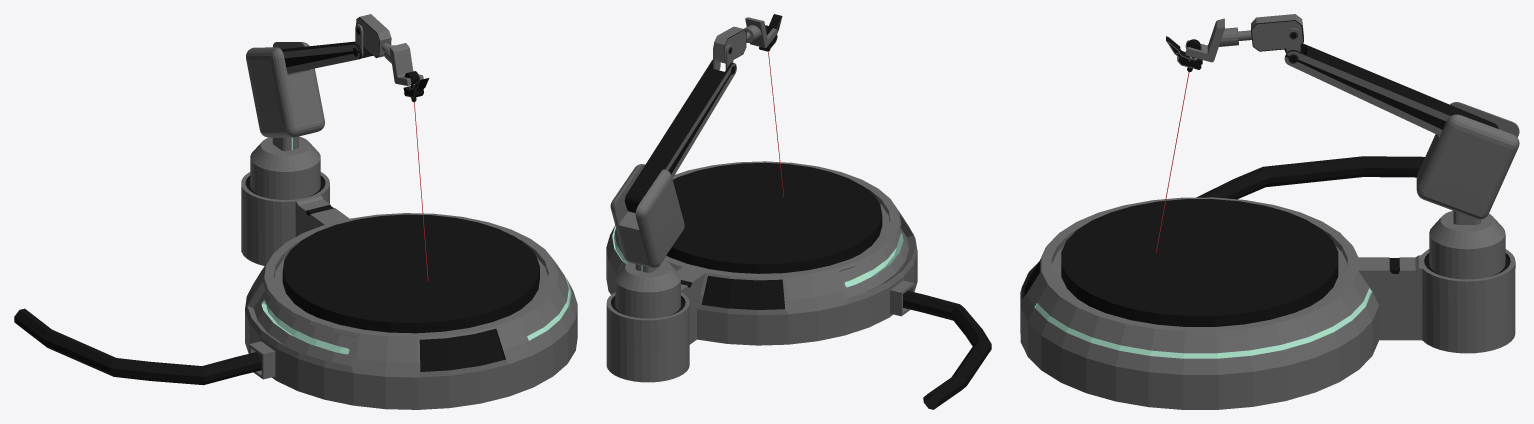
File: laser.fbx
The picture shows the model from 3 angles, left to right: view 1: azimuth 30°, elevation 25°; view 2: azimuth 150°, elevation 25°; view 3: azimuth 270°, elevation 25°; orthographic projection. The views are drawn at different scales.
Visible parts, largest first — view 1: base, link2, link3, link, link5, link7; view 2: base, link2, link3, link, link5, link7; view 3: base, link2, link3, link, link5, link7.
Boxes of the visible parts, x1=… form: base: x1=14, y1=136, x2=577, y2=409; link2: x1=246, y1=42, x2=324, y2=137; link3: x1=281, y1=41, x2=372, y2=73; link: x1=356, y1=14, x2=394, y2=63; link5: x1=389, y1=43, x2=423, y2=85; link7: x1=403, y1=78, x2=429, y2=281; base: x1=606, y1=161, x2=991, y2=409; link2: x1=610, y1=164, x2=684, y2=267; link3: x1=624, y1=59, x2=736, y2=212; link: x1=713, y1=25, x2=761, y2=63; link5: x1=745, y1=17, x2=777, y2=47; link7: x1=759, y1=14, x2=784, y2=197; base: x1=1020, y1=156, x2=1515, y2=409; link2: x1=1416, y1=102, x2=1519, y2=219; link3: x1=1284, y1=43, x2=1498, y2=135; link: x1=1219, y1=14, x2=1303, y2=51; link5: x1=1185, y1=18, x2=1224, y2=62; link7: x1=1156, y1=36, x2=1202, y2=252.
Size of the model in its own units: 8.97 by 8.19 by 5.72.
